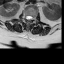CCS_normal: (28, 13, 30, 23)
LFS_normal: (32, 14, 34, 22)
LLS_normal: (30, 14, 32, 22)
RFS_normal: (24, 12, 26, 20)
RLS_normal: (26, 13, 28, 22)
